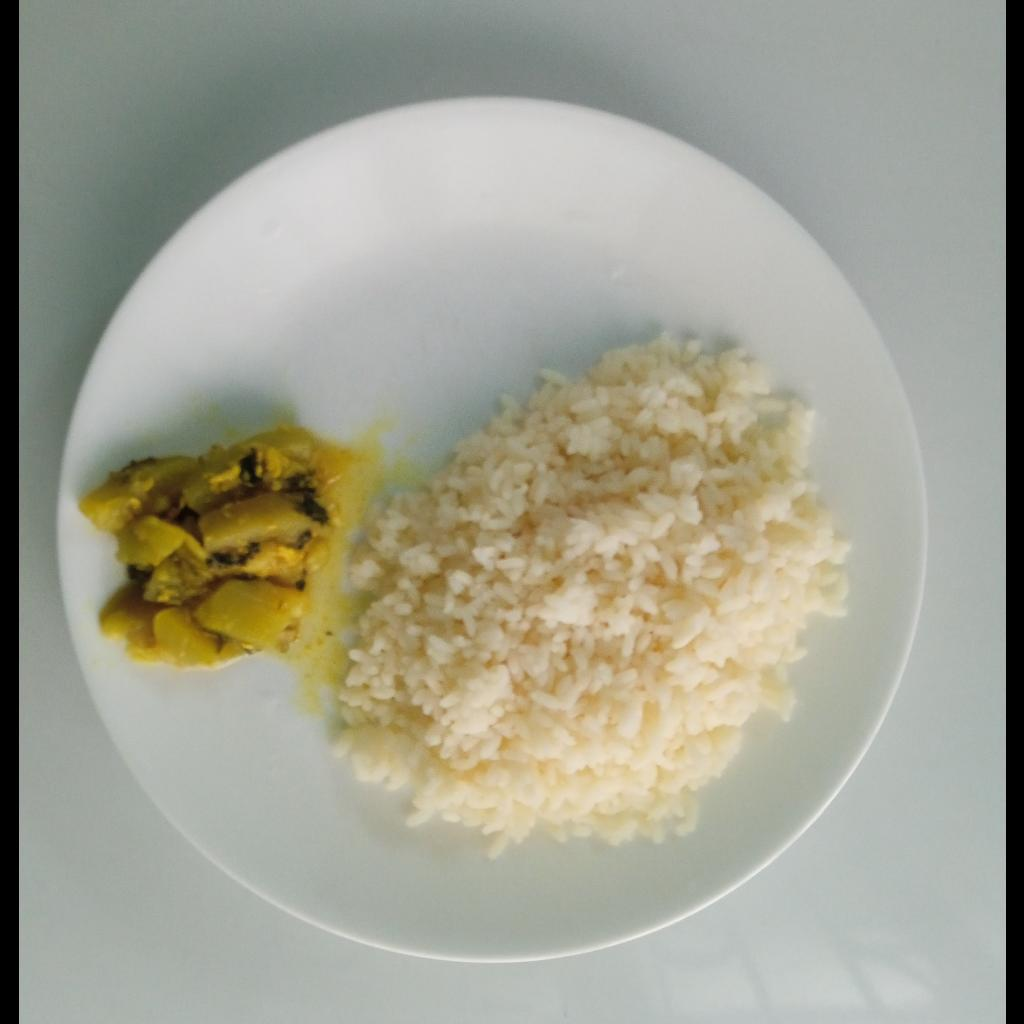lau: (79, 425, 333, 670)
rice: (330, 337, 861, 847)
